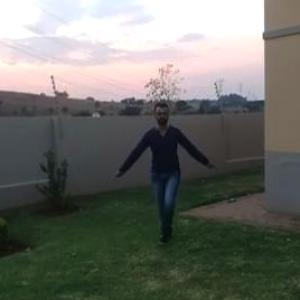land: (104, 95, 218, 241)
